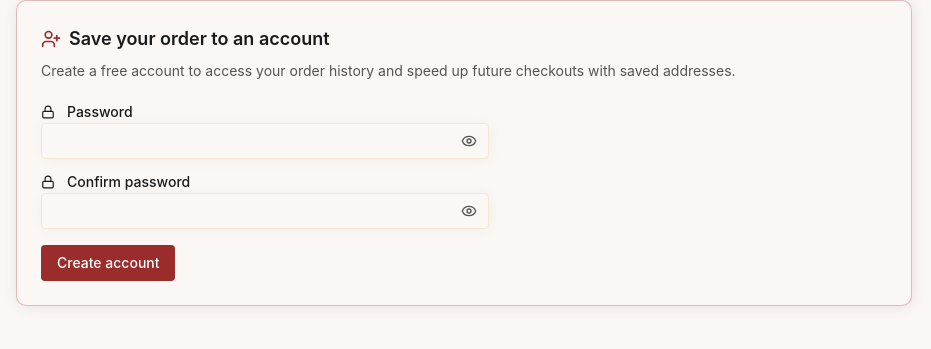
Test: GuestAccountBootstrapBanner › password mismatch › shows inline error when passwords do not match
In the password field labelled "Password": (265, 141) [41,123,489,159], type "abc123"
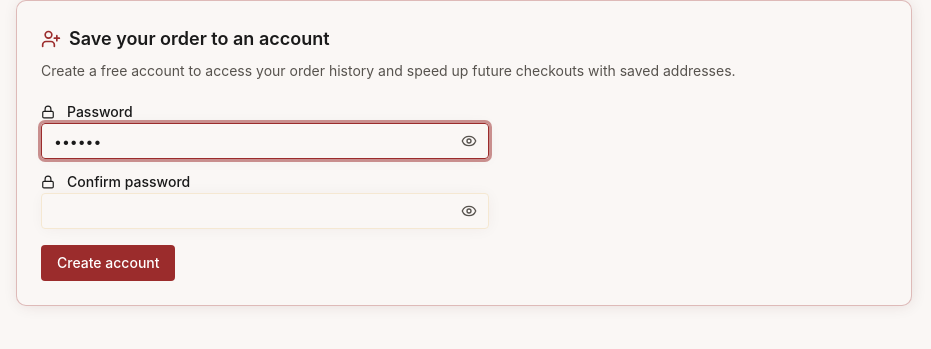
In the password field labelled "Confirm password": (265, 211) [41,193,489,229], type "different"
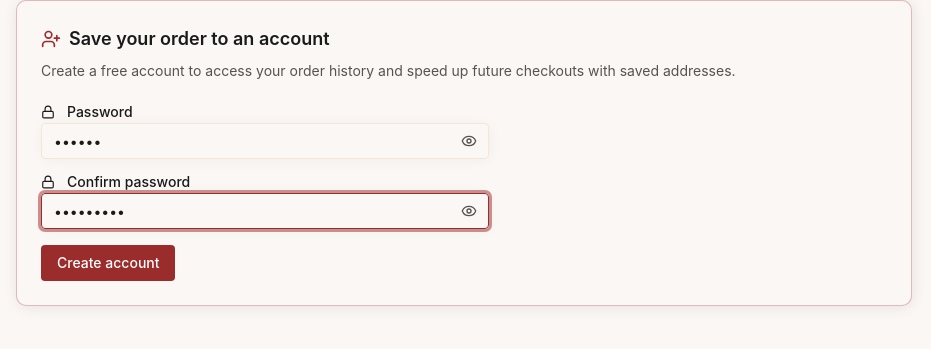
Click the button with test id "guest-bootstrap-submit": click(108, 263) [41,245,176,281]
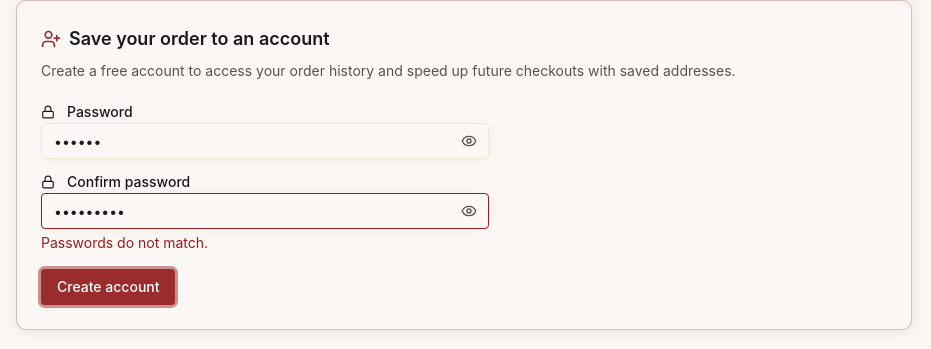
Expected: the text "Passwords do not match." is shown, [41,234,208,251]
